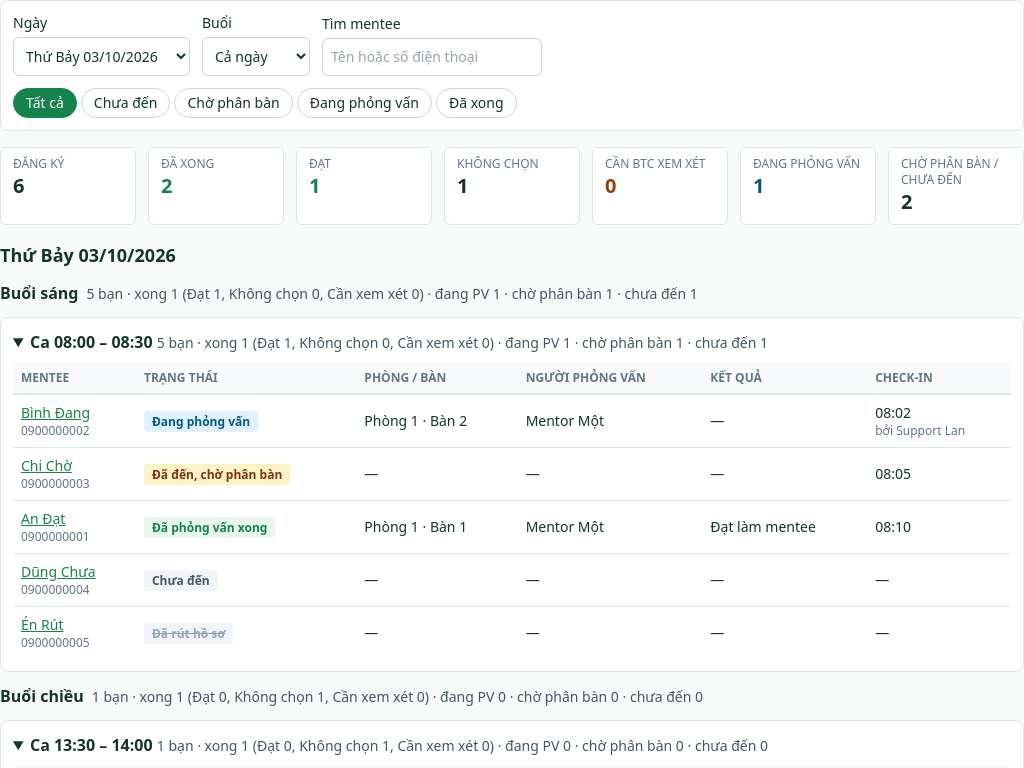
Test: bảng tiến độ › mặc định mở ngày hôm nay; ô số tính theo ngày + buổi đang chọn
Select "Buổi chiều" in the dropdown labelled "Buổi" at (256, 56), box [202,37,310,76]
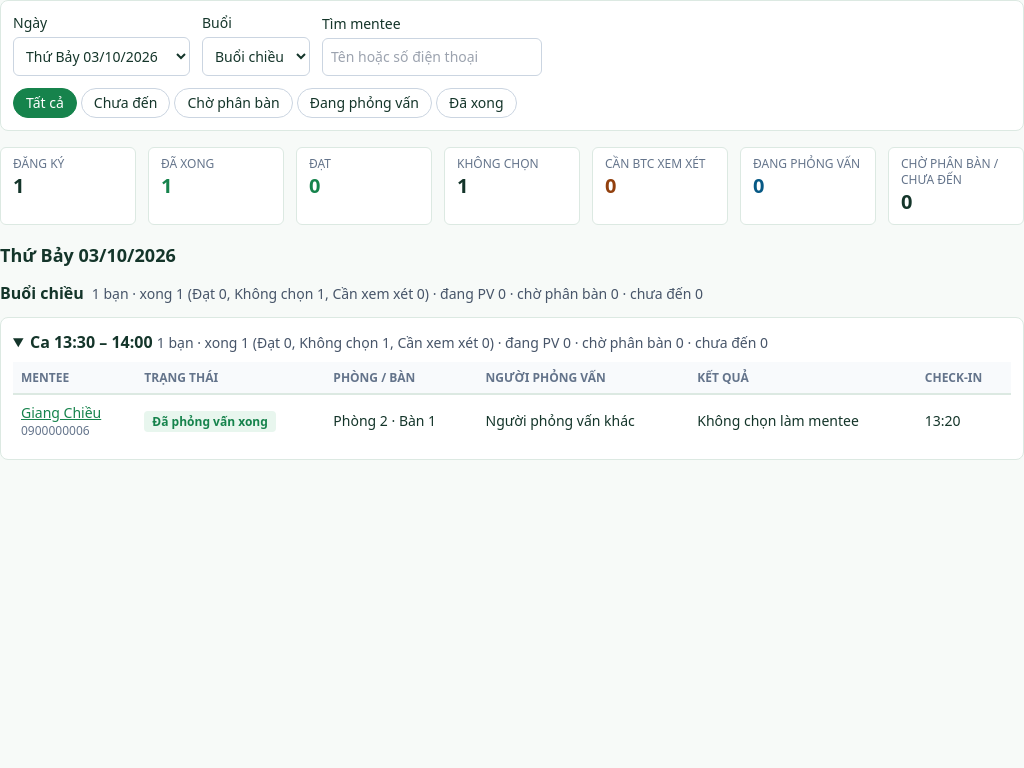
Expected: the link "Giang Chiều" is shown, [21,403,101,422]
Result: the link "An Đạt" is gone
